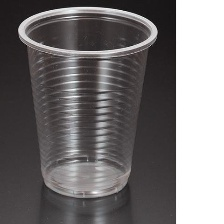glass: (13, 4, 162, 204)
